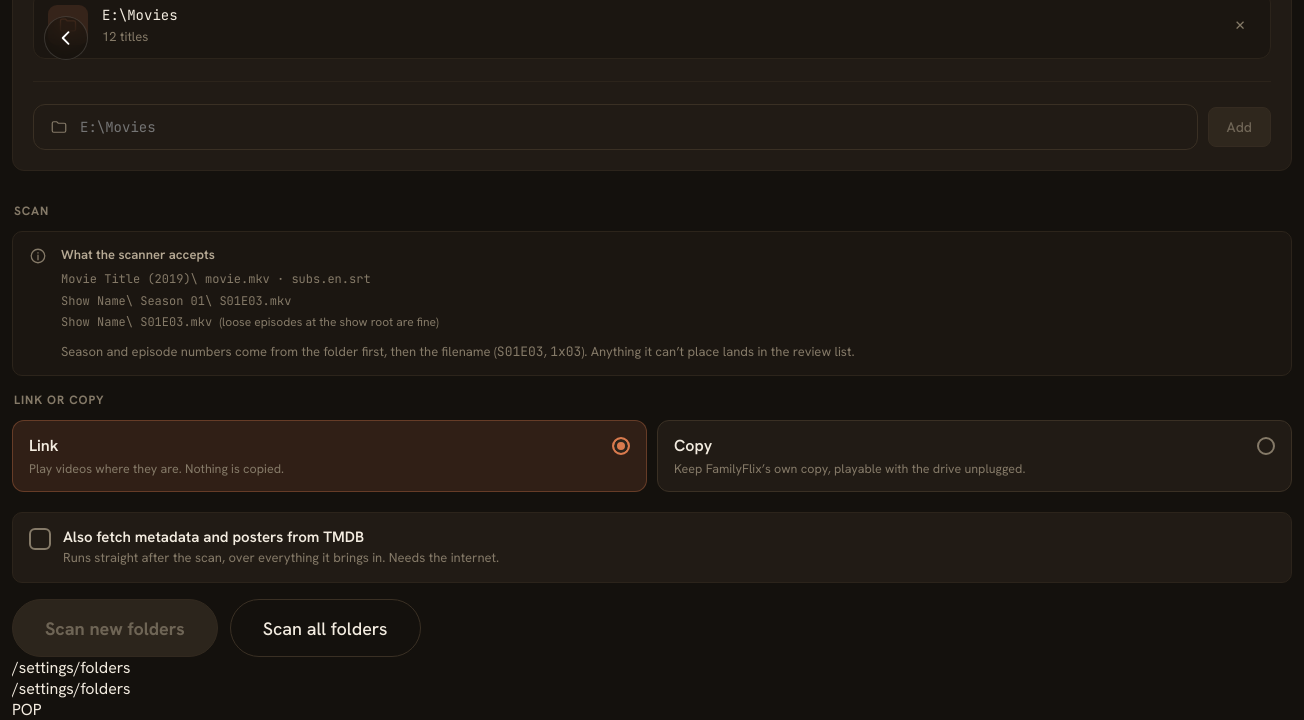
Scenario: LibraryFolders — Also fetch from TMDB › sends enrich true once the box is ticked
(page scrolled)
Click the checkbox labelled "Also fetch metadata and posters from TMDB" at (214, 537), box [12,512,1292,583]
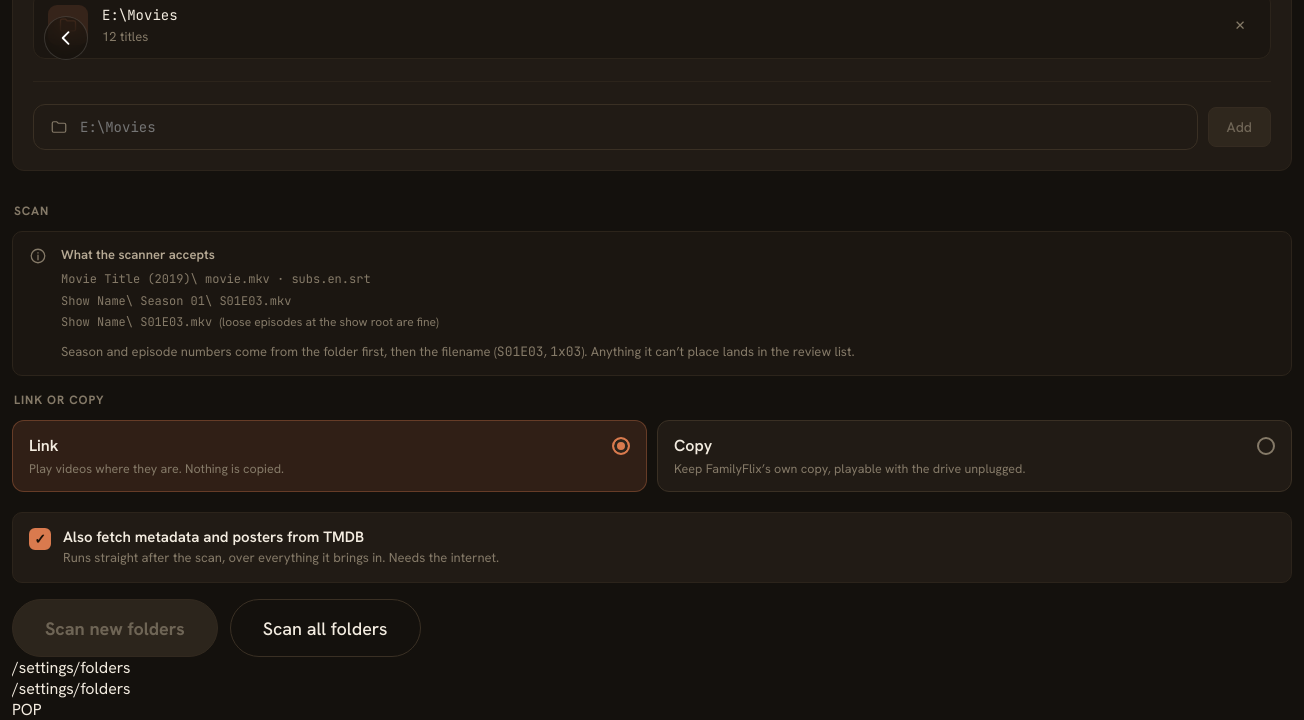
Click the button "Scan all folders" at (325, 628), box [230,599,420,657]
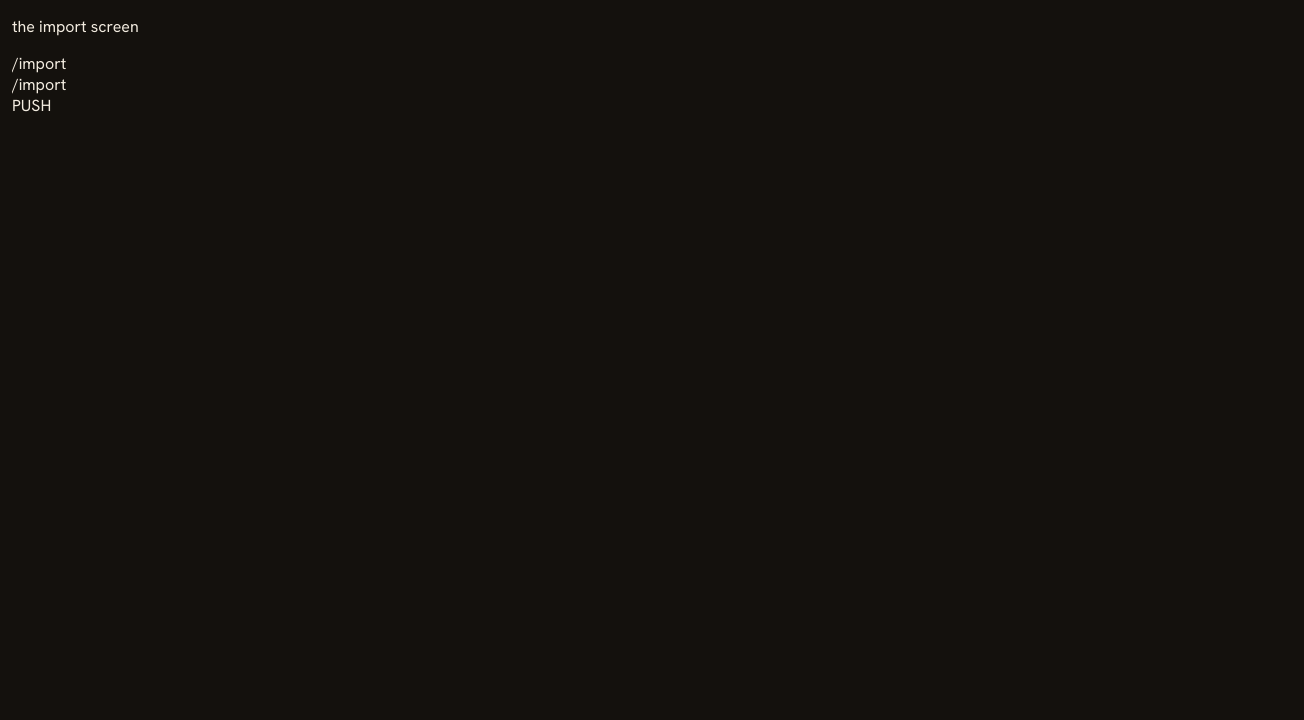
Check: the text with test id "pathname" reads "/import", box [12,53,66,74]
